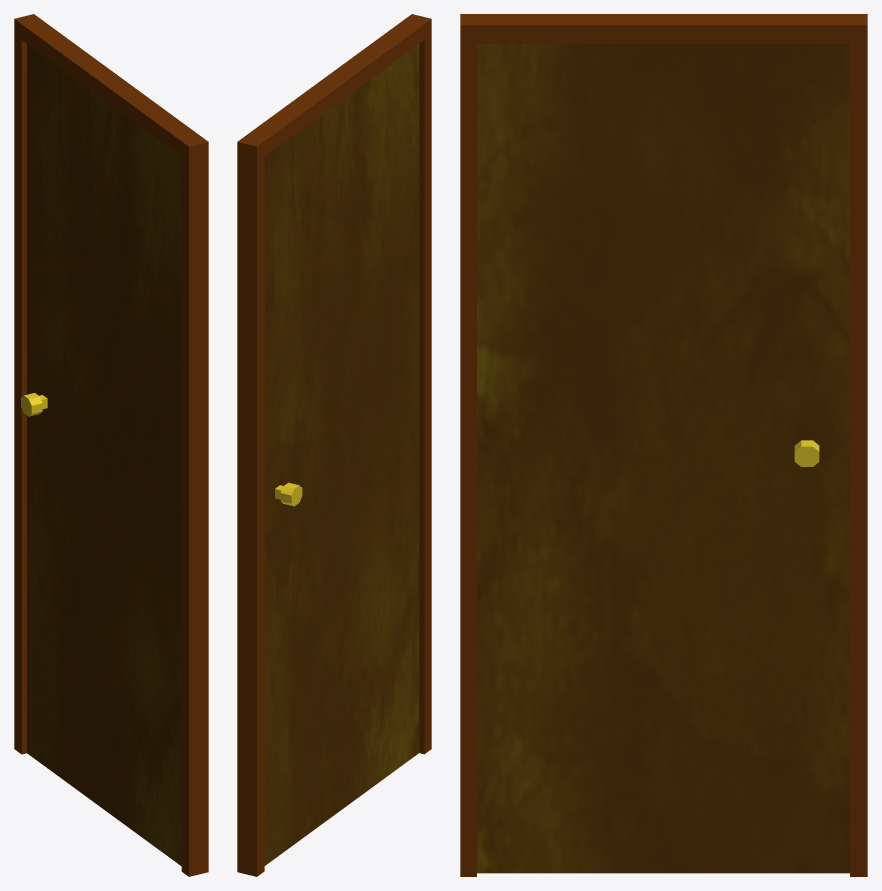
Rendered from Basic1TileDoor.glb.
3 views of the same model, side by side, from view 1: azimuth 30°, elevation 25°; view 2: azimuth 150°, elevation 25°; view 3: azimuth 270°, elevation 25° (orthographic). The views are drawn at different scales.
Parts seen in each view (by area): view 1: Cube, Cube.003; view 2: Cube, Cube.003; view 3: Cube.
Boxes of the visible parts, x1,y1,x2,y2 form: Cube: (14,14,208,876); Cube.003: (21,393,42,416); Cube: (237,14,431,876); Cube.003: (280,482,302,506); Cube: (460,14,867,876).
Bounding box in the file's own units: 0.1469 × 2.31 × 0.9998.
Materials: 3 (2 with a texture image).
